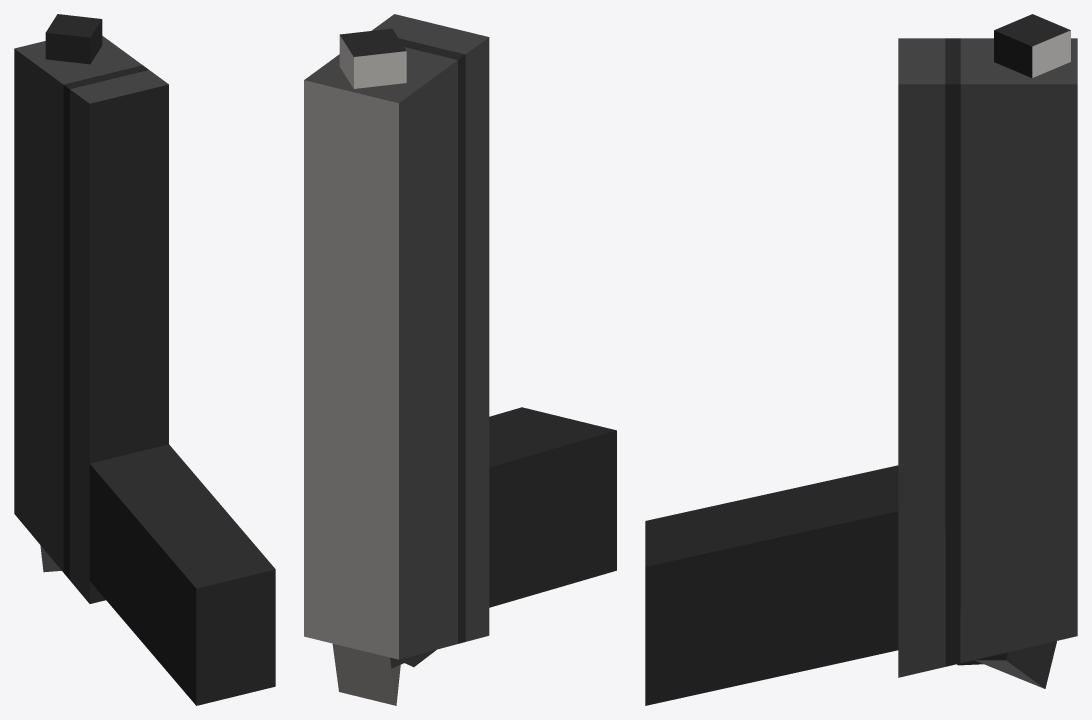
Rendered from weapon_pistol.FBX.
The picture shows the model from 3 angles, left to right: view 1: azimuth 30°, elevation 25°; view 2: azimuth 150°, elevation 25°; view 3: azimuth 270°, elevation 25°; orthographic projection. The views are drawn at different scales.
Visible parts, largest first — view 1: weapon; view 2: weapon; view 3: weapon.
Part boxes in pixels (bbox=[...]): weapon: bbox=[14, 14, 275, 705]; weapon: bbox=[304, 14, 616, 705]; weapon: bbox=[645, 14, 1077, 705].
Size of the model in its own units: 4.15 by 27.55 by 16.52.
Materials: 1 (1 with a texture image).
